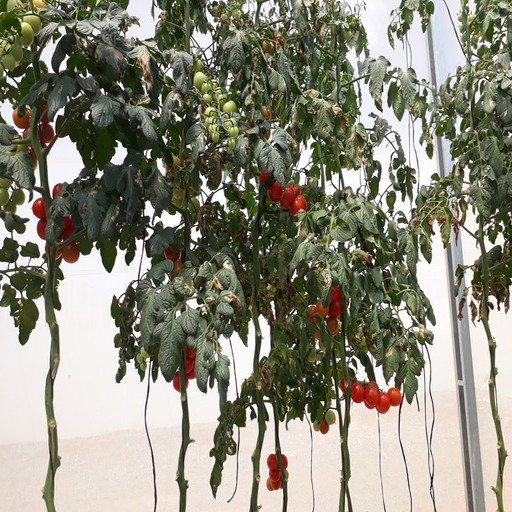green tomato bunch: (193, 59, 238, 150), (1, 1, 46, 77), (164, 150, 203, 219)
mixed tomato bunch: (311, 406, 337, 436)
red tomato bunch: (35, 183, 82, 264), (11, 92, 54, 158), (341, 375, 404, 412), (259, 170, 305, 219), (307, 282, 343, 340), (173, 336, 204, 392), (265, 452, 289, 491)
